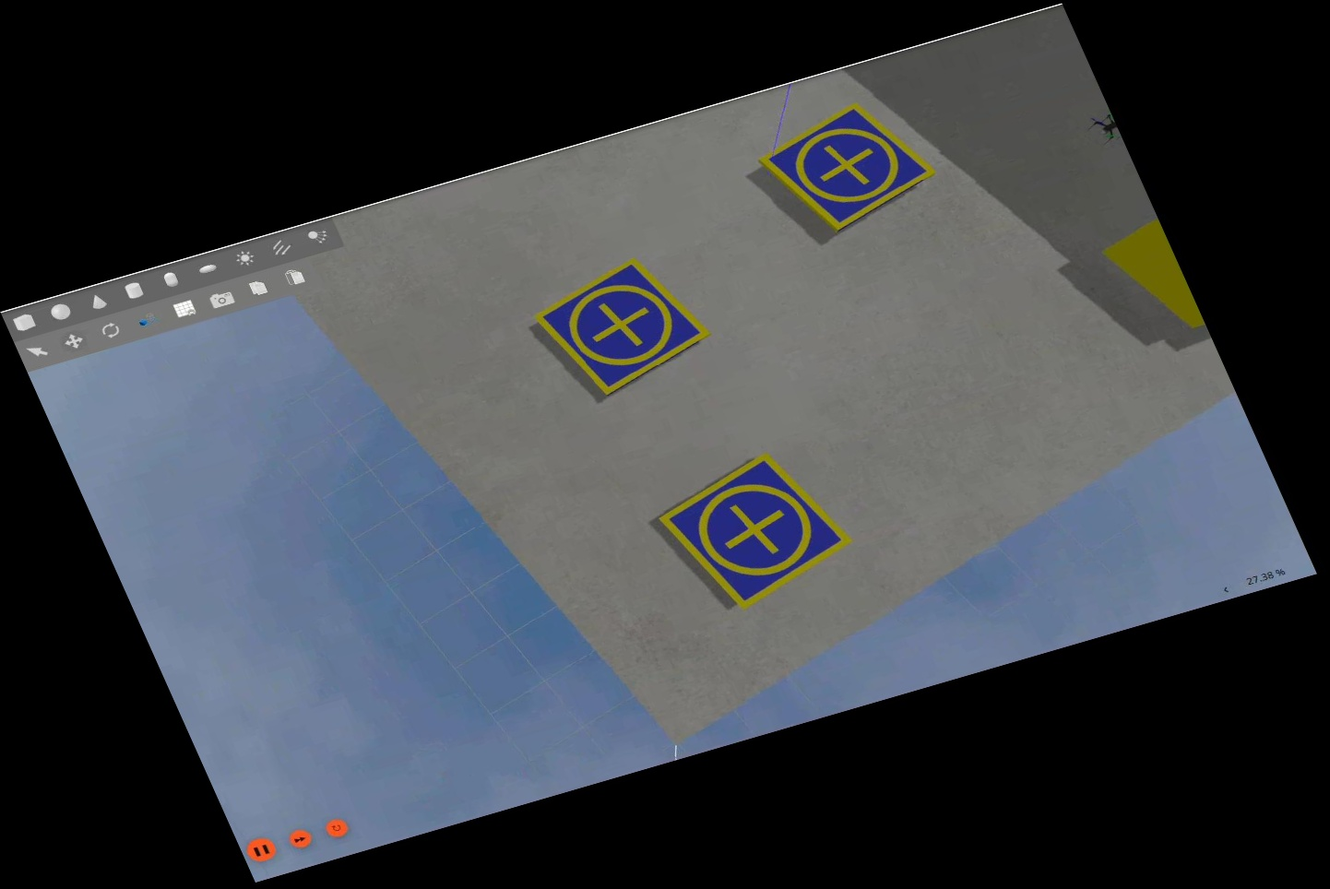small_base: (641, 438, 867, 621), (523, 245, 723, 405), (748, 89, 953, 245)
